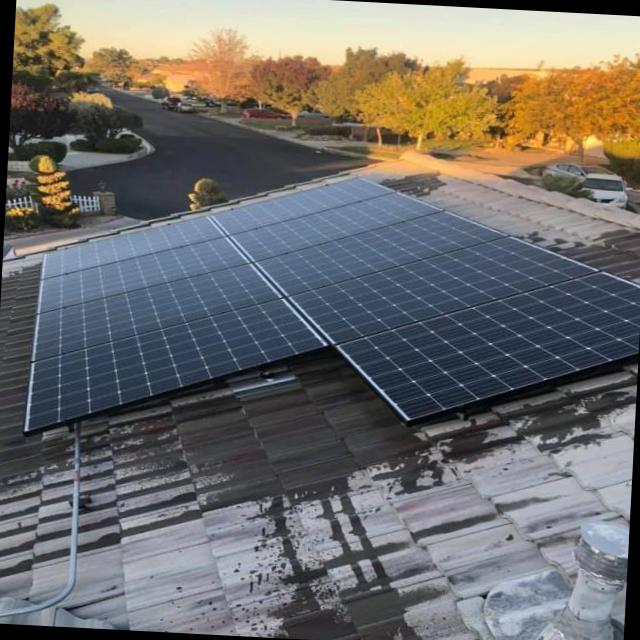no faulty: (345, 270, 640, 417), (26, 300, 321, 426), (297, 239, 581, 345), (36, 269, 278, 357), (260, 211, 494, 289), (38, 238, 246, 314), (236, 194, 439, 261)
